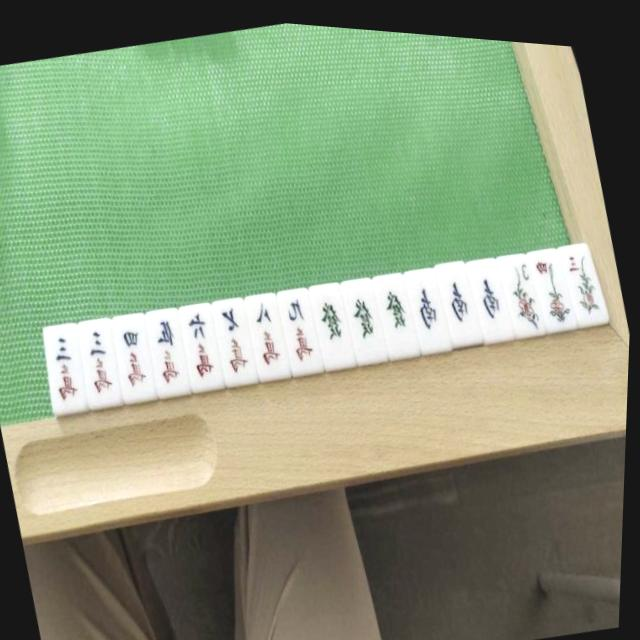bf3: (502, 243, 548, 329)
bs3: (562, 231, 606, 318)
bs4: (531, 236, 580, 324)
hdg: (309, 274, 362, 366), (372, 264, 425, 352), (342, 271, 391, 359)
hws: (469, 247, 519, 336), (438, 252, 486, 341), (406, 258, 455, 345)
sc3: (77, 315, 128, 406), (42, 321, 92, 411)
sc4: (111, 307, 162, 399)
sc5: (145, 303, 197, 395)
sc6: (178, 297, 231, 389)
sc7: (211, 292, 264, 382)
sc8: (244, 285, 296, 376)
sc9: (277, 280, 329, 372)
